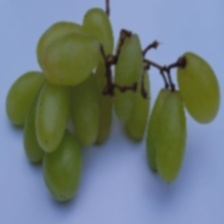grapes: (25, 30, 162, 203)
